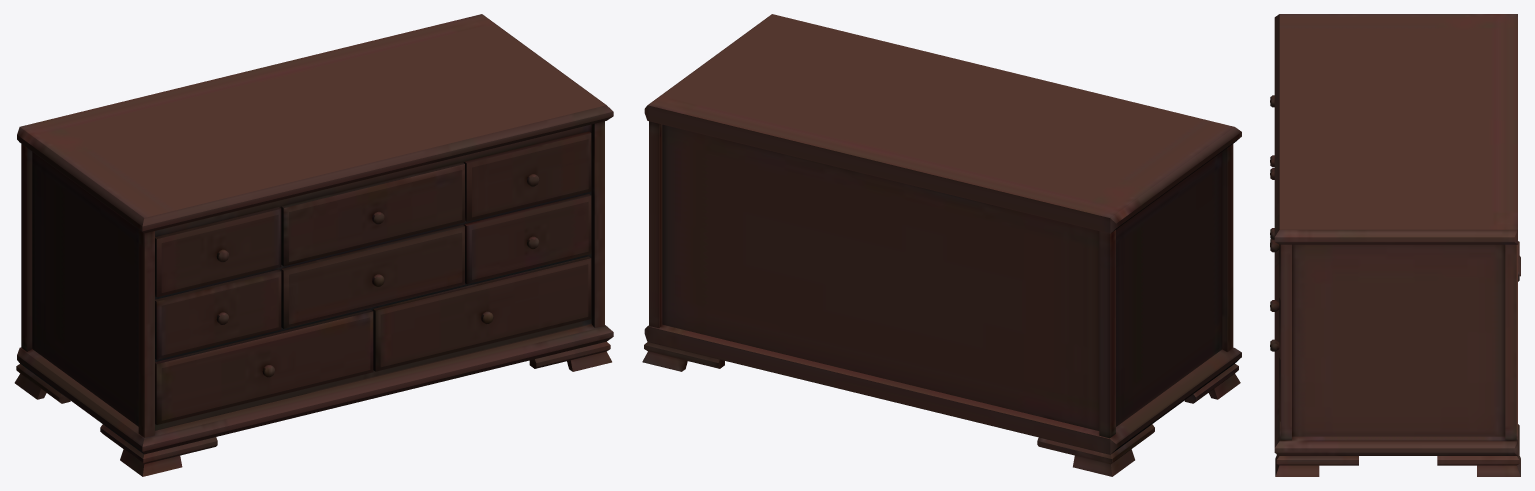
The model's file is meuble_livinge.fbx.
3 views of the same model, side by side, from view 1: azimuth 30°, elevation 25°; view 2: azimuth 150°, elevation 25°; view 3: azimuth 270°, elevation 25° (orthographic). The views are drawn at different scales.
Parts seen in each view (by area): view 1: c_low.001; view 2: c_low.001; view 3: c_low.001.
Part boxes in pixels (left/top/right/bottom): c_low.001: left=14, top=14, right=613, bottom=476; c_low.001: left=642, top=14, right=1241, bottom=476; c_low.001: left=1270, top=14, right=1520, bottom=476.
Size of the model in its own units: 183 by 95.04 by 88.05.
Materials: 1 (1 with a texture image).
